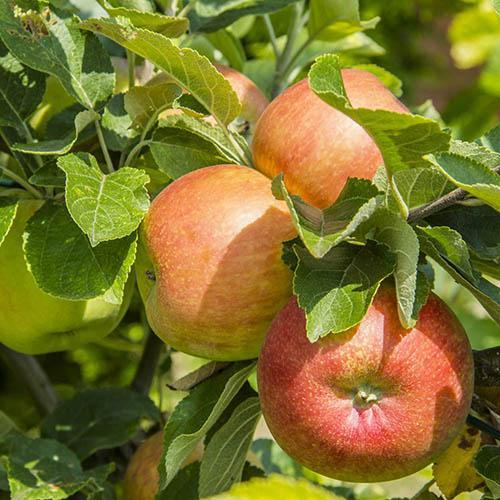apple: (263, 297, 479, 494), (143, 161, 302, 359), (248, 71, 412, 212)
